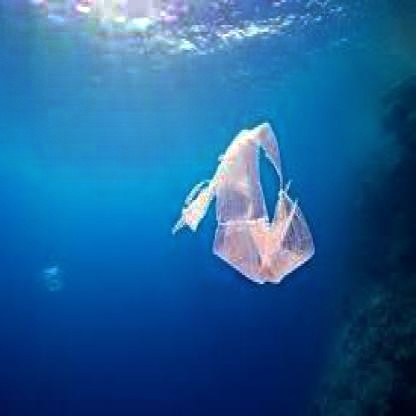pbag: (170, 120, 316, 288)
